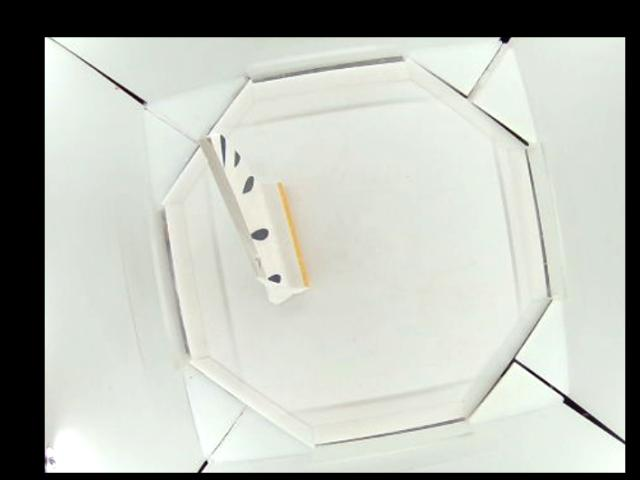China: (198, 134, 308, 303)
